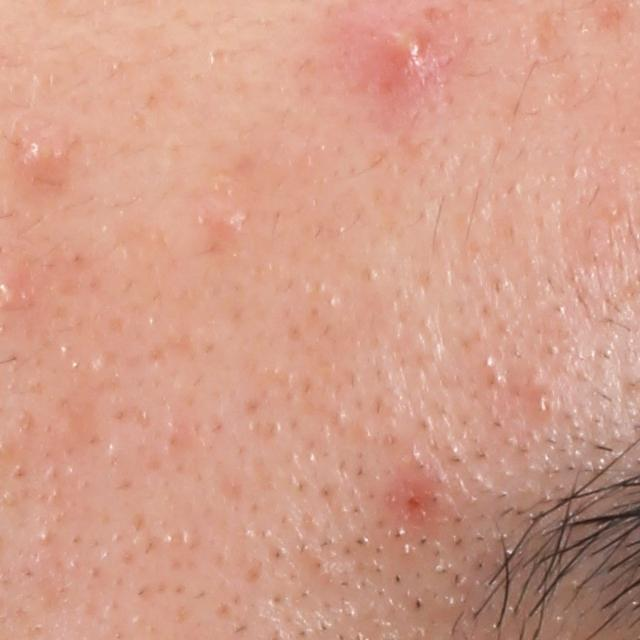comedo: (531, 391, 551, 420)
papule: (15, 132, 63, 180)
pustule: (344, 0, 460, 106)
